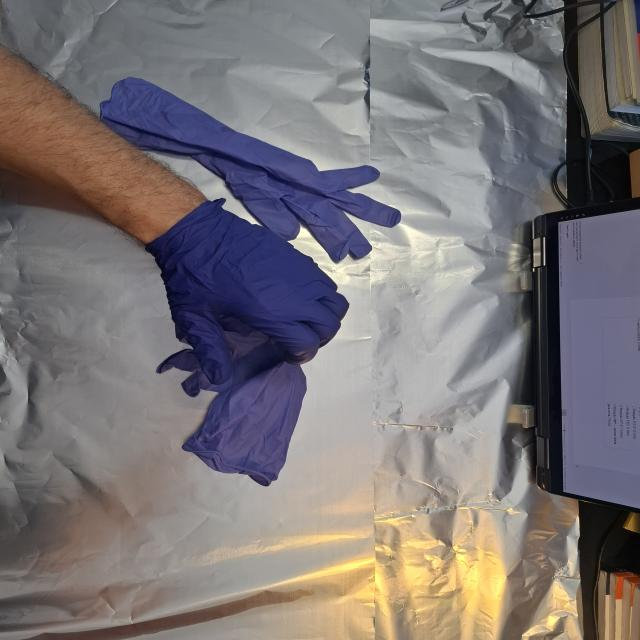glove_on: (148, 203, 353, 387)
